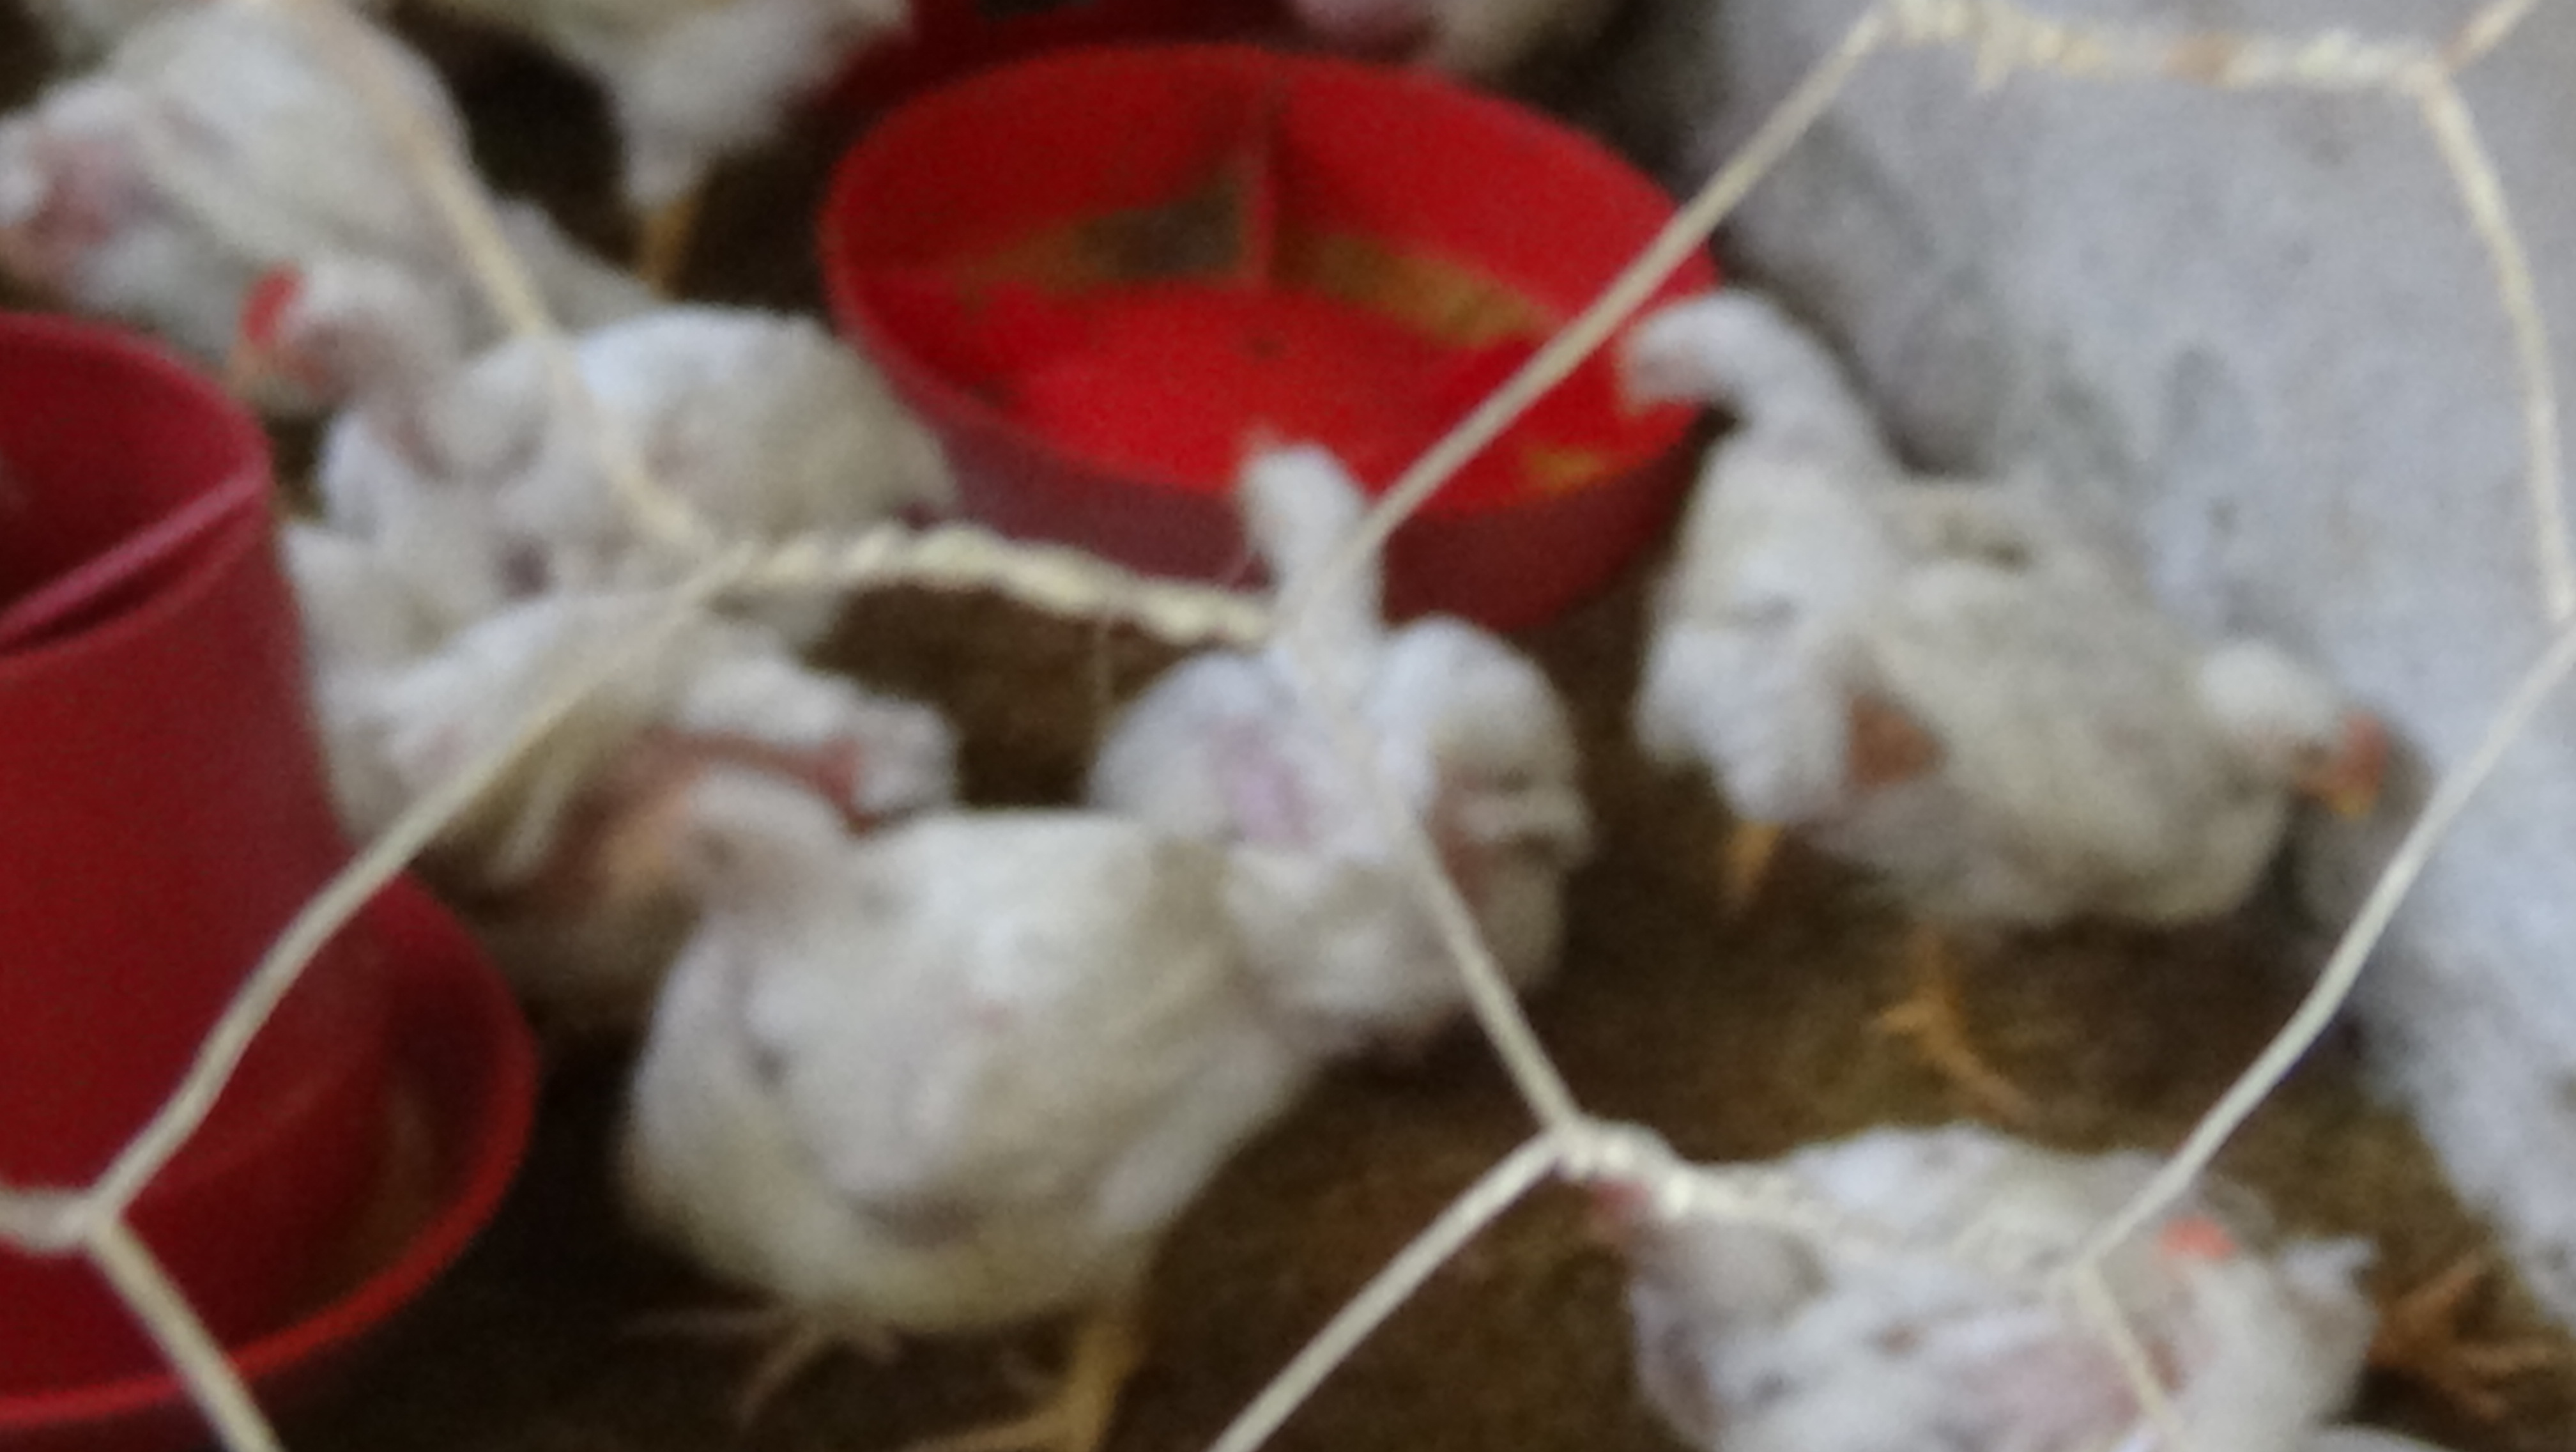Pollos: (536, 756, 1238, 1425), (1460, 1057, 2404, 1452), (1835, 570, 2459, 1114), (1143, 418, 1592, 1004), (221, 236, 954, 581), (1592, 248, 1941, 554)
